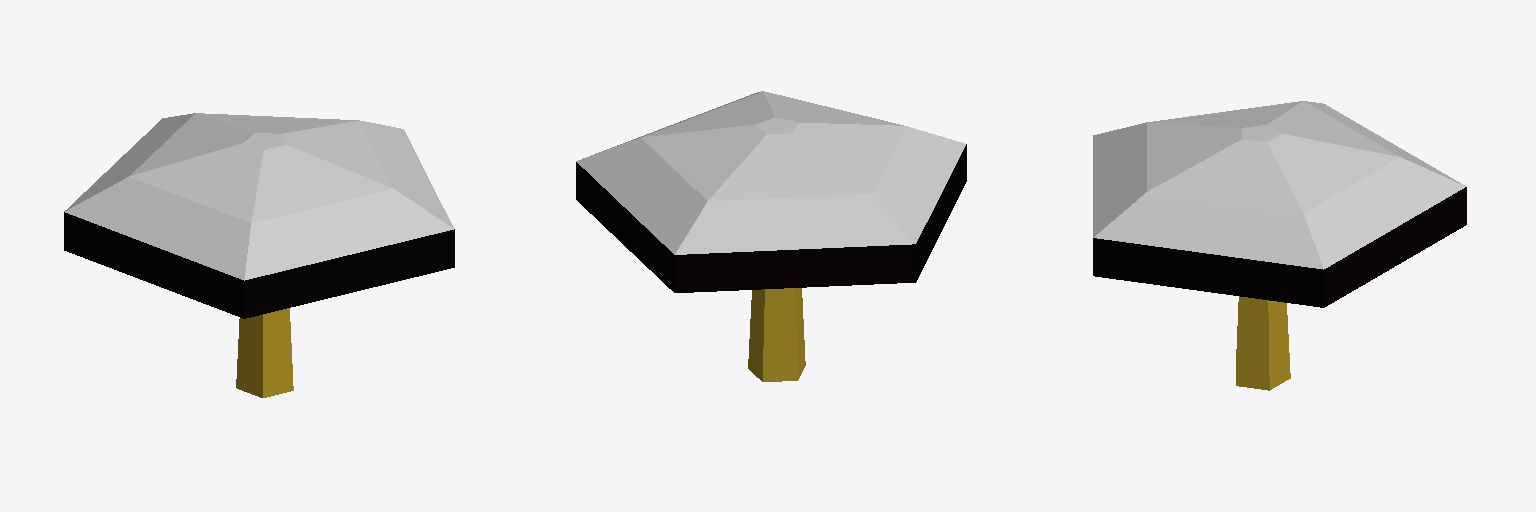
File: Mushroom_3_Snow.obj
3 renders of one model, left to right at view 1: azimuth 30°, elevation 25°; view 2: azimuth 150°, elevation 25°; view 3: azimuth 270°, elevation 25°, orthographic.
Parts seen in each view (by area): view 1: Mushroom_3_Snow_Cylinder.023; view 2: Mushroom_3_Snow_Cylinder.023; view 3: Mushroom_3_Snow_Cylinder.023.
Part boxes in pixels (left/top/right/bottom): Mushroom_3_Snow_Cylinder.023: left=64, top=113, right=454, bottom=397; Mushroom_3_Snow_Cylinder.023: left=576, top=91, right=966, bottom=381; Mushroom_3_Snow_Cylinder.023: left=1093, top=101, right=1466, bottom=390.
Size of the model in its own units: 0.3911 by 0.269 by 0.372.